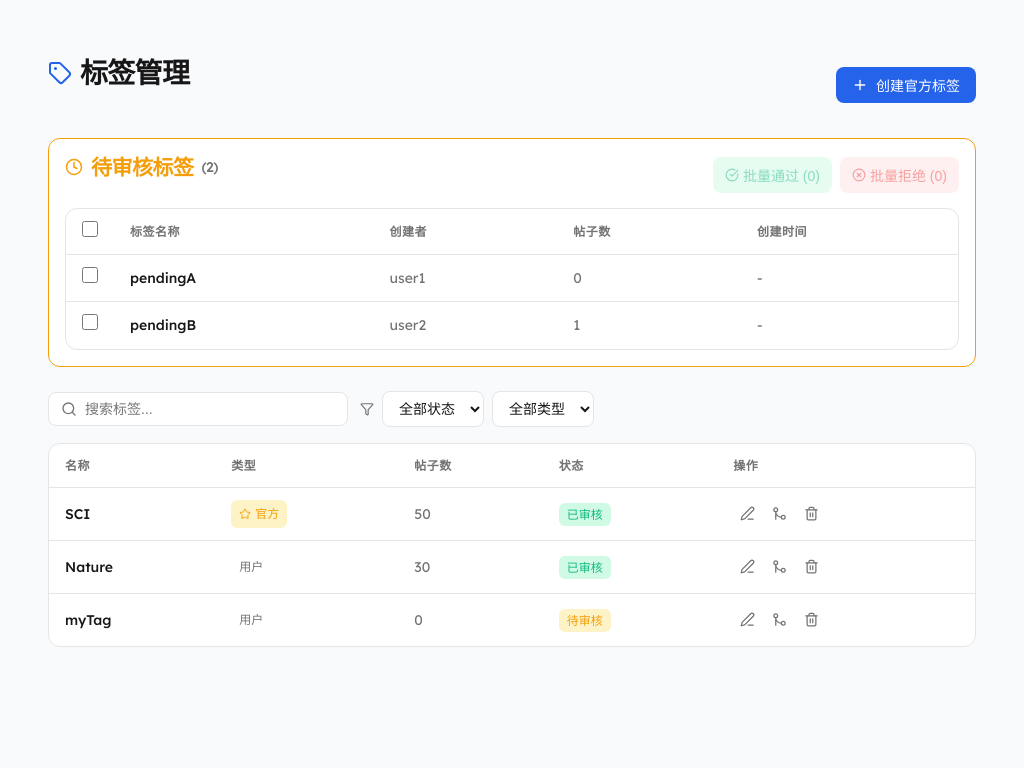
Test: AdminTagsPanel › Actions › should show delete confirmation modal
Expected: the text "SCI" is shown, [65,505,90,523]
Click the button titled "删除" in the row of "SCI". click: (811, 514)
box: [797,500,825,528]
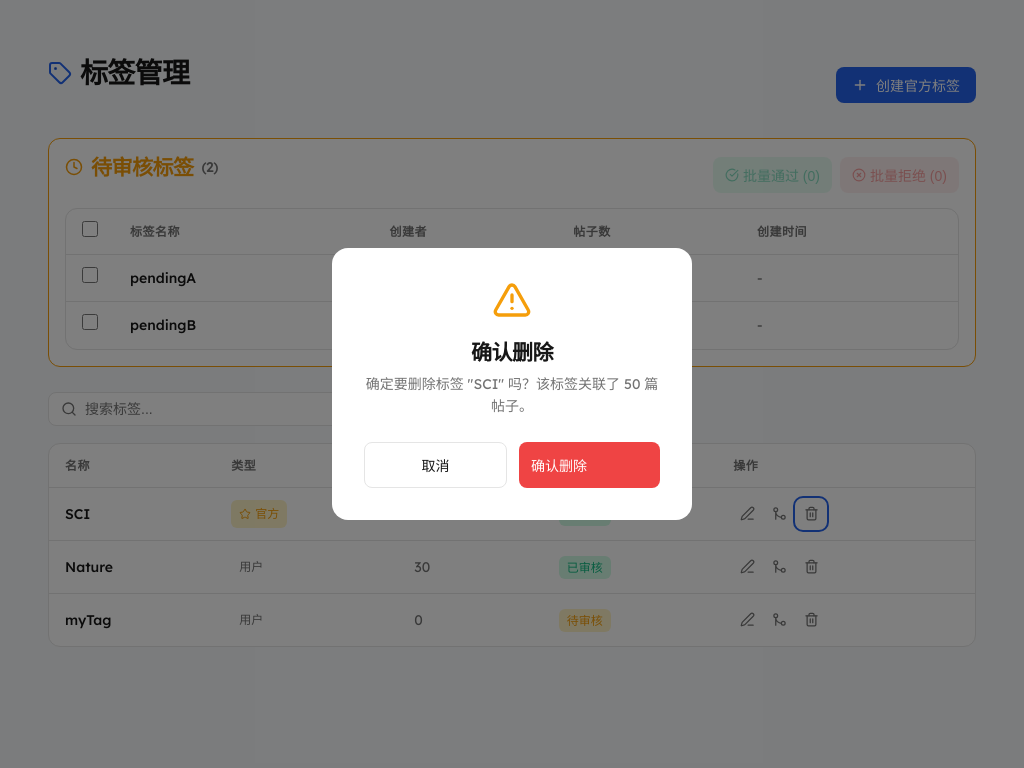
Now the heading "确认删除" is shown, box [471,339,553,365]
Now the text "确定要删除标签 \"SCI\" 吗？该标签关联了 50 篇帖子。" is shown, box [364,373,660,418]
